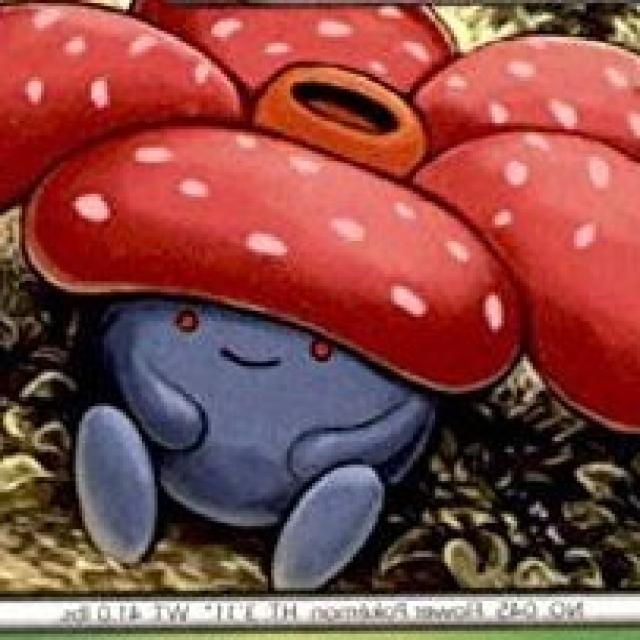Vileplume: (16, 23, 534, 587)
